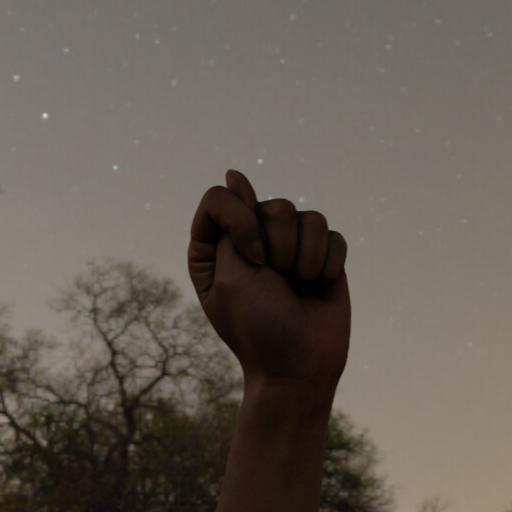T: (171, 161, 363, 406)
